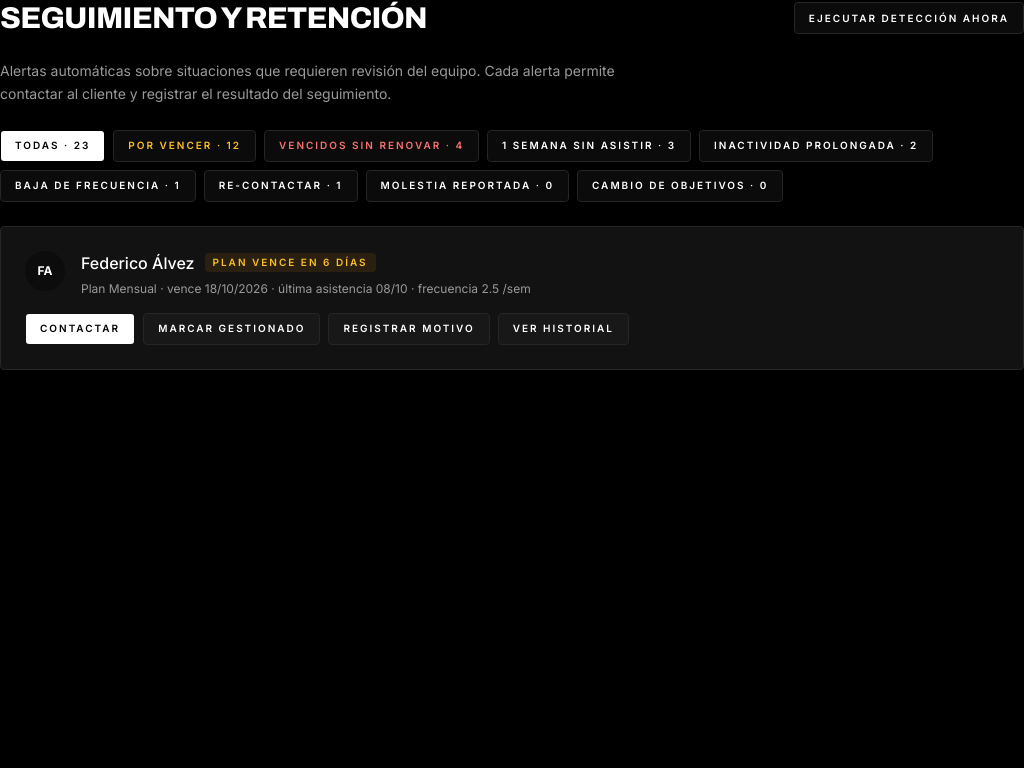
Scenario: FollowupView contact dialog › shows the contract message for other API errors and keeps the dialog open
Click the button "Contactar": (80, 328) [25, 312, 135, 344]
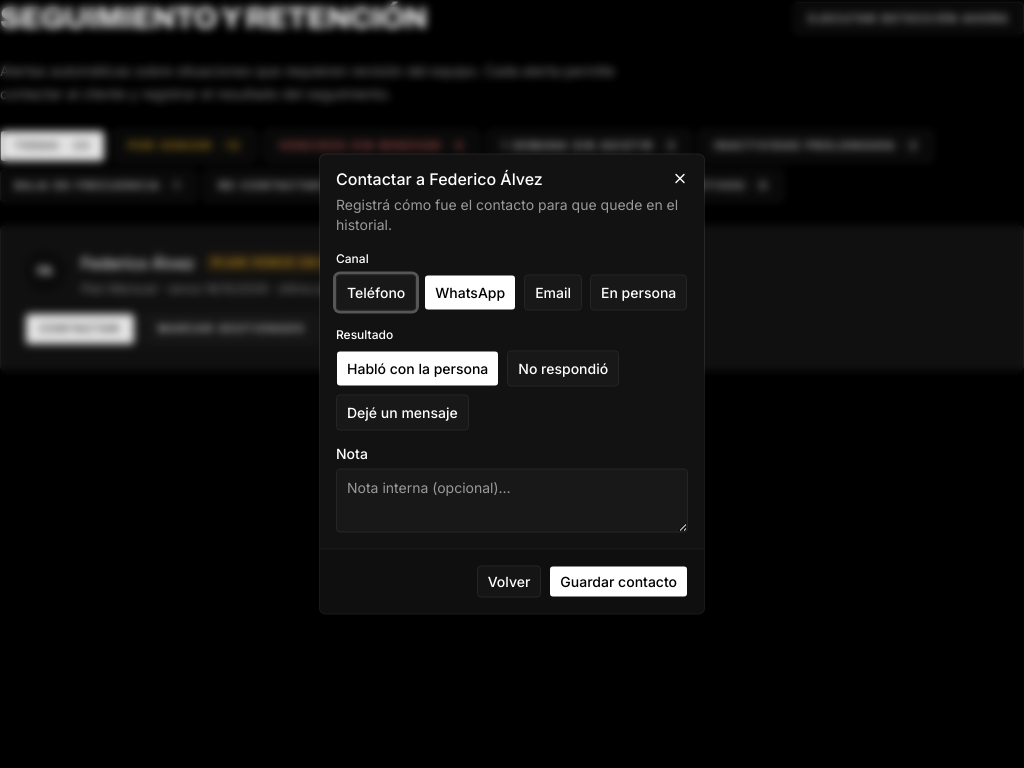
Click the button "Guardar contacto": (619, 582) [549, 566, 688, 598]
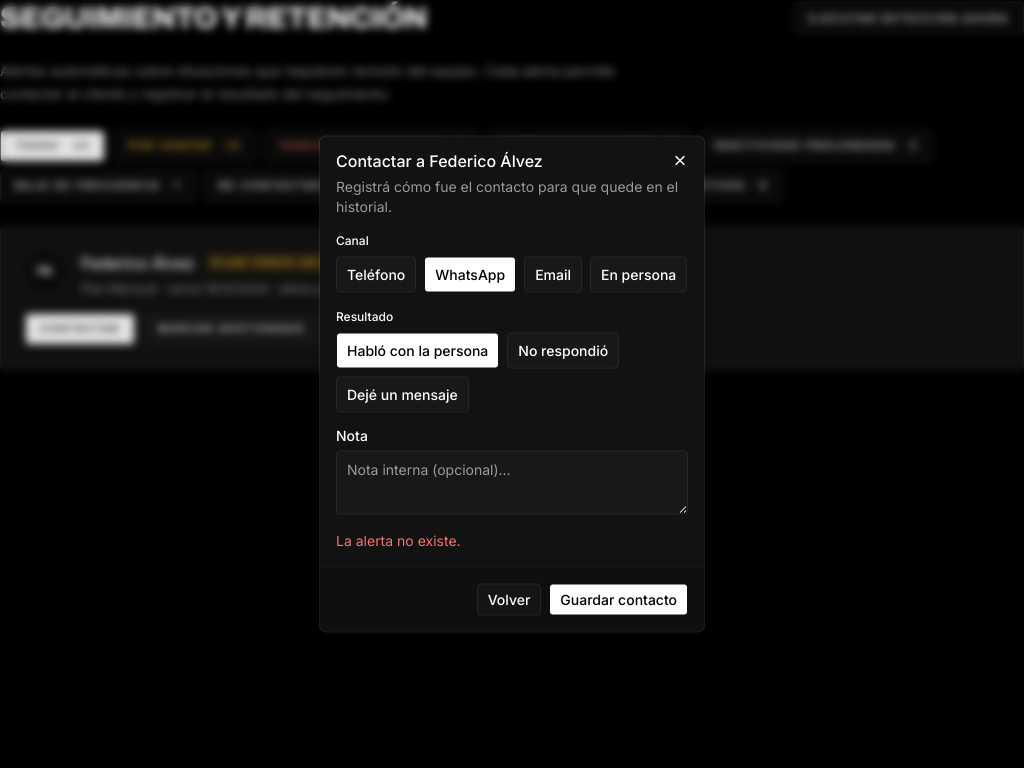
Now the dialog is shown, box [320, 136, 704, 632]
Now the message reads "La alerta no existe.", box [336, 532, 461, 548]
